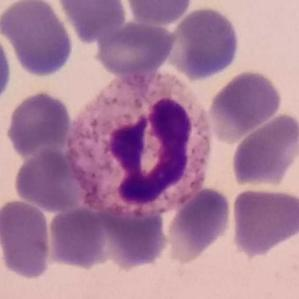Neutrophil: (60, 68, 220, 221)
RBC: (164, 5, 242, 81), (1, 0, 76, 78), (206, 68, 284, 140), (164, 184, 234, 262), (229, 111, 299, 189), (228, 185, 299, 257), (93, 19, 176, 79), (12, 147, 86, 213), (4, 89, 74, 156), (0, 198, 54, 280), (46, 205, 110, 270), (110, 213, 167, 269), (56, 0, 127, 43), (0, 0, 58, 40), (122, 0, 194, 27), (0, 26, 14, 107)
